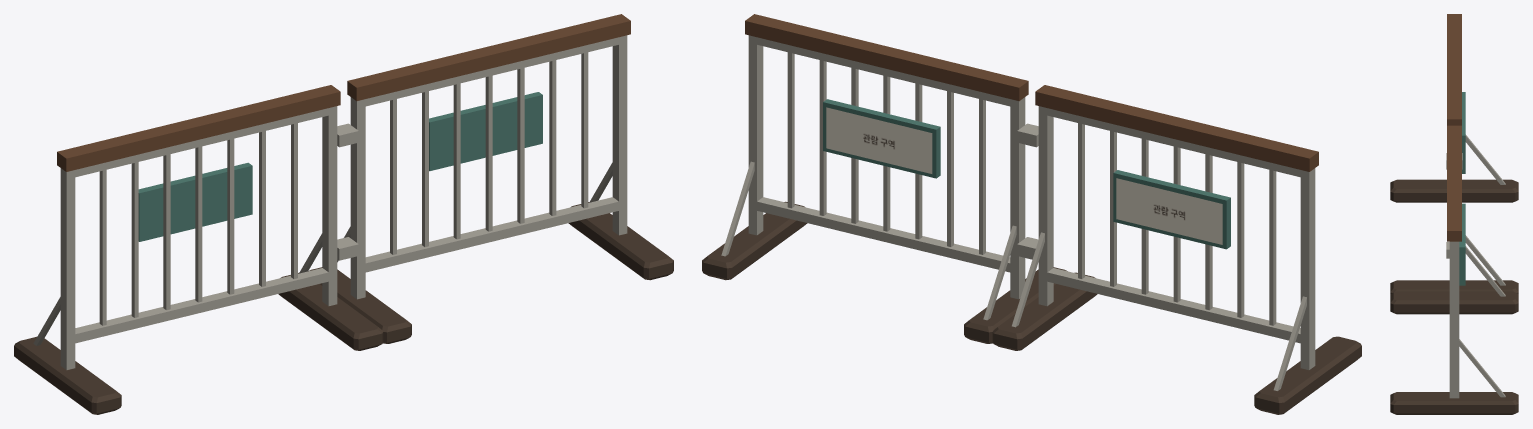
File: P09_Crowd_Barrier_Pair.fbx
The picture shows the model from 3 angles, left to right: view 1: azimuth 30°, elevation 25°; view 2: azimuth 150°, elevation 25°; view 3: azimuth 270°, elevation 25°; orthographic projection. The views are drawn at different scales.
Visible parts, largest first — view 1: Barrier_01, Barrier_02, Panel_01, Panel_02, Structure; view 2: Barrier_01, Barrier_02, Panel_02, Panel_01, Structure; view 3: Barrier_02, Barrier_01, Panel_02, Panel_01.
Part boxes in pixels (left/top/right/bottom): Barrier_01: left=14, top=85, right=383, bottom=414; Barrier_02: left=308, top=14, right=673, bottom=343; Panel_01: left=138, top=162, right=252, bottom=241; Panel_02: left=429, top=92, right=542, bottom=171; Structure: left=337, top=123, right=358, bottom=260; Barrier_01: left=992, top=85, right=1361, bottom=414; Barrier_02: left=702, top=14, right=1067, bottom=343; Panel_02: left=823, top=99, right=940, bottom=178; Panel_01: left=1113, top=170, right=1230, bottom=249; Structure: left=1017, top=123, right=1038, bottom=259; Barrier_02: left=1390, top=125, right=1518, bottom=414; Barrier_01: left=1390, top=14, right=1518, bottom=293; Panel_02: left=1459, top=203, right=1465, bottom=285; Panel_01: left=1462, top=92, right=1465, bottom=173.
Size of the model in its own units: 3.3 by 1.25 by 0.8.
5 materials, 1 textured.
